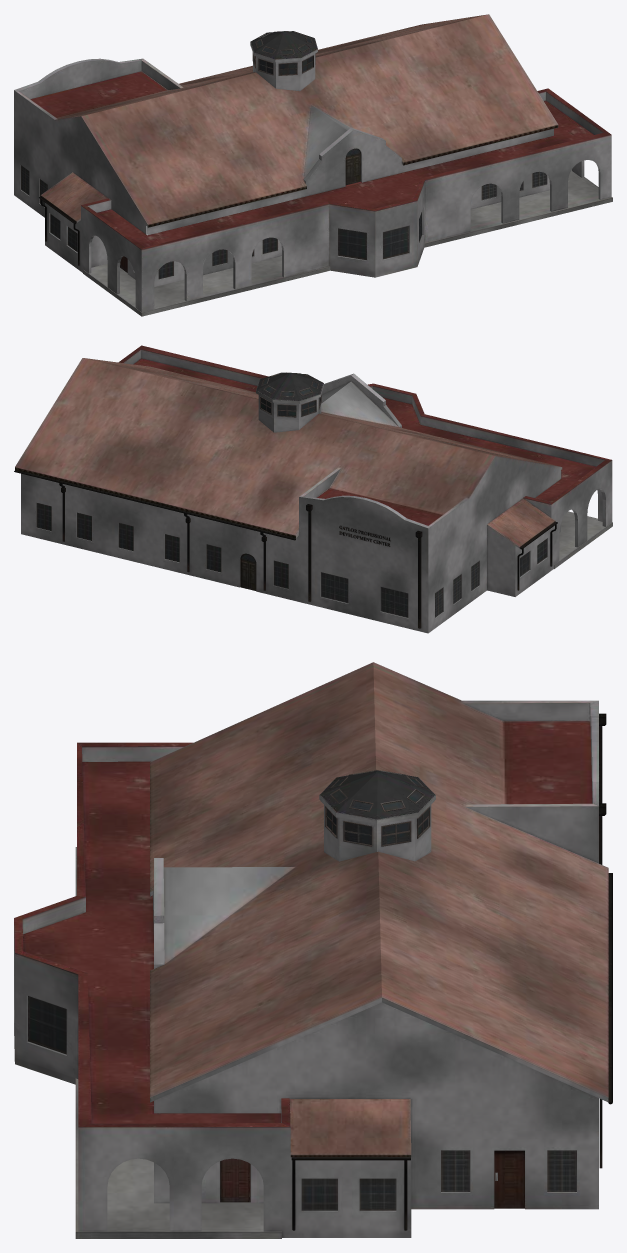
File: city_house_4.glb
3 renders of one model, top to bottom at view 1: azimuth 30°, elevation 25°; view 2: azimuth 150°, elevation 25°; view 3: azimuth 270°, elevation 25°, orthographic. The views are drawn at different scales.
Visible parts, largest first — view 1: CityHouse4; view 2: CityHouse4; view 3: CityHouse4.
Part boxes in pixels (x1,y1,x2,y2): CityHouse4: [14, 14, 612, 316]; CityHouse4: [14, 345, 612, 633]; CityHouse4: [14, 662, 612, 1238].
Bounding box in the file's own units: 31.44 × 10.1 × 20.2.
Materials: 1 (1 with a texture image).
